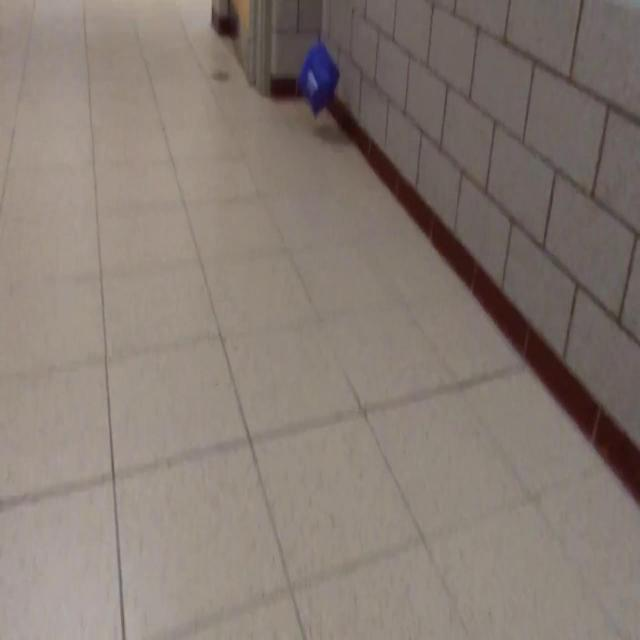frc_cube: (298, 39, 341, 119)
